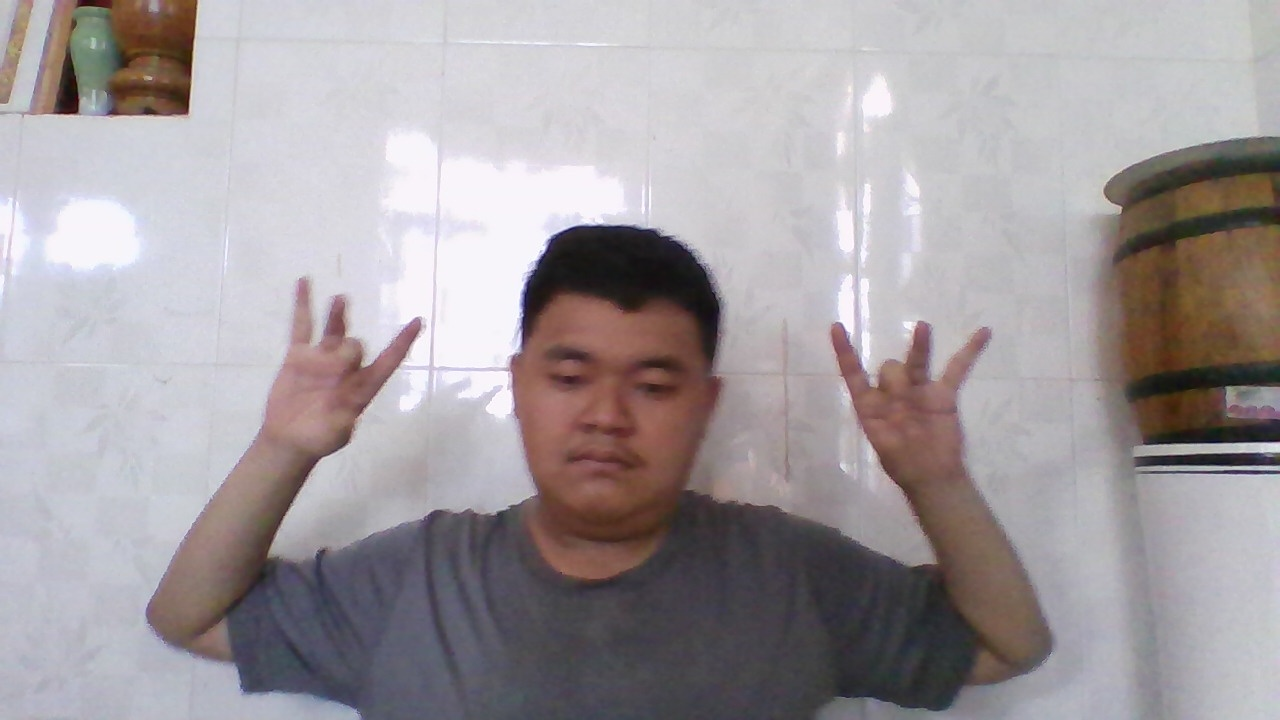H: (263, 268, 432, 463), (819, 310, 996, 496)
